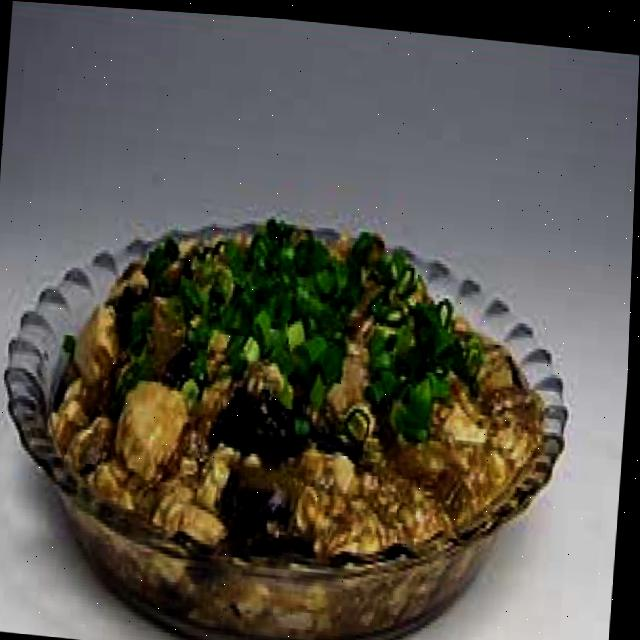豆腐料理: (0, 166, 581, 640)
